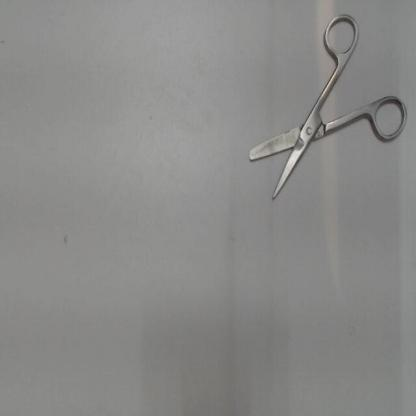Dressing Scissors: (238, 10, 414, 210)
